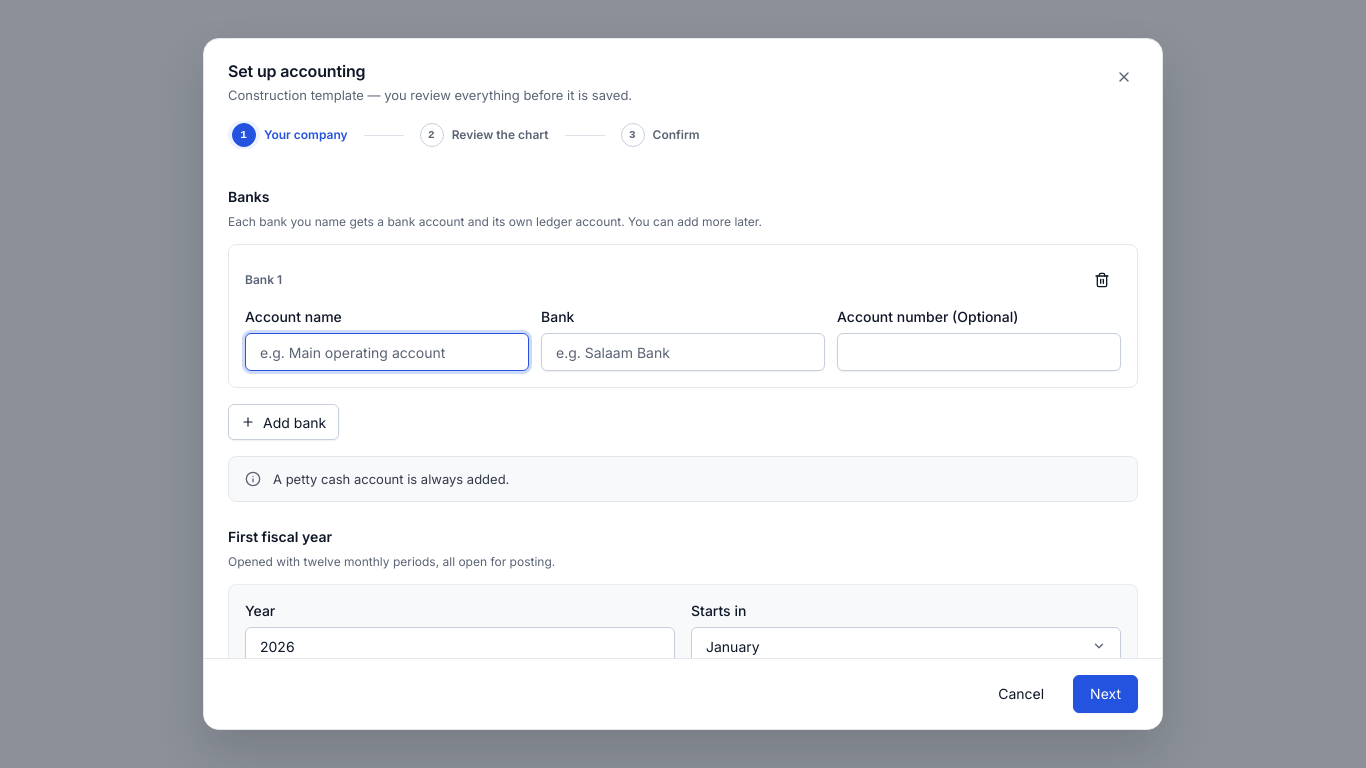
Test: AccountingSetupDialog — step 1 › shows the period range for a non-January start
Clear the field labelled "Year" at (460, 646), box [245, 627, 675, 665]
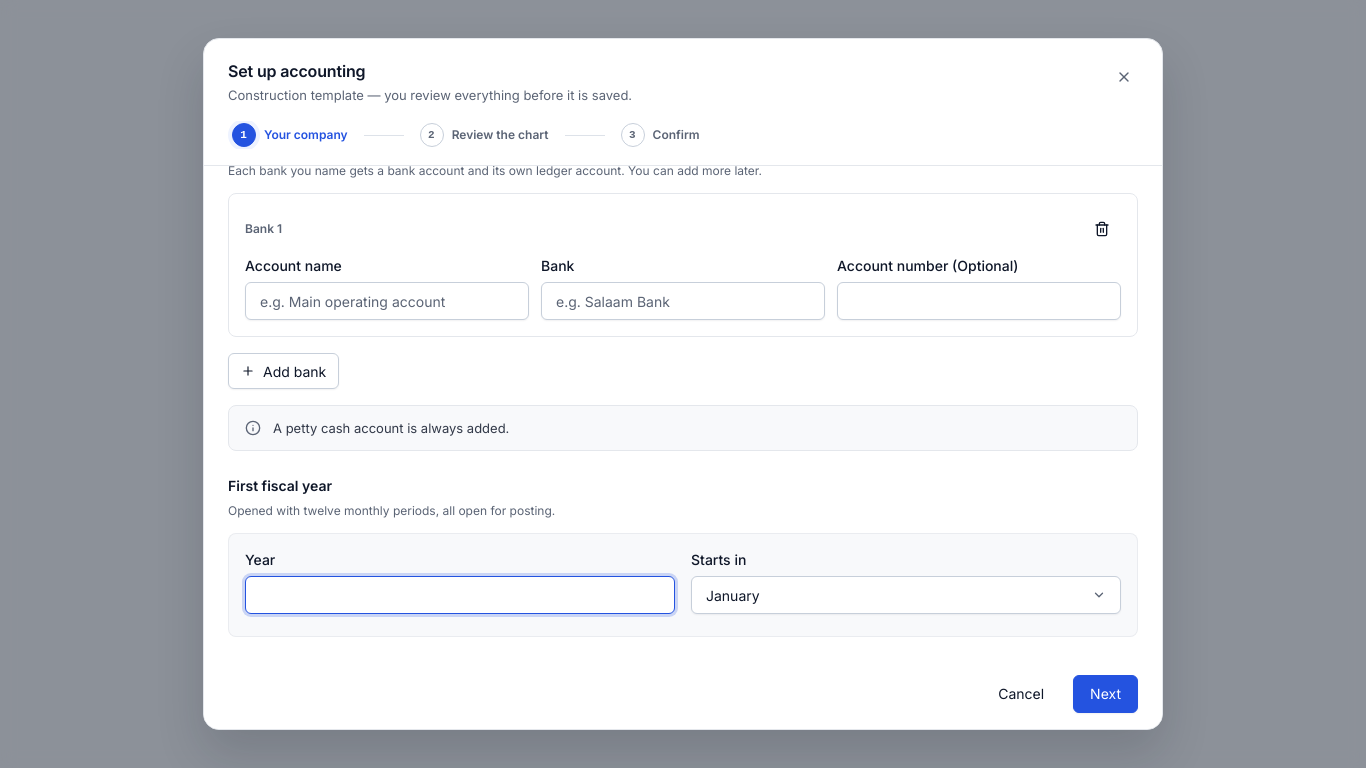
Type "2026" into the field labelled "Year" at (460, 595), box [245, 576, 675, 614]
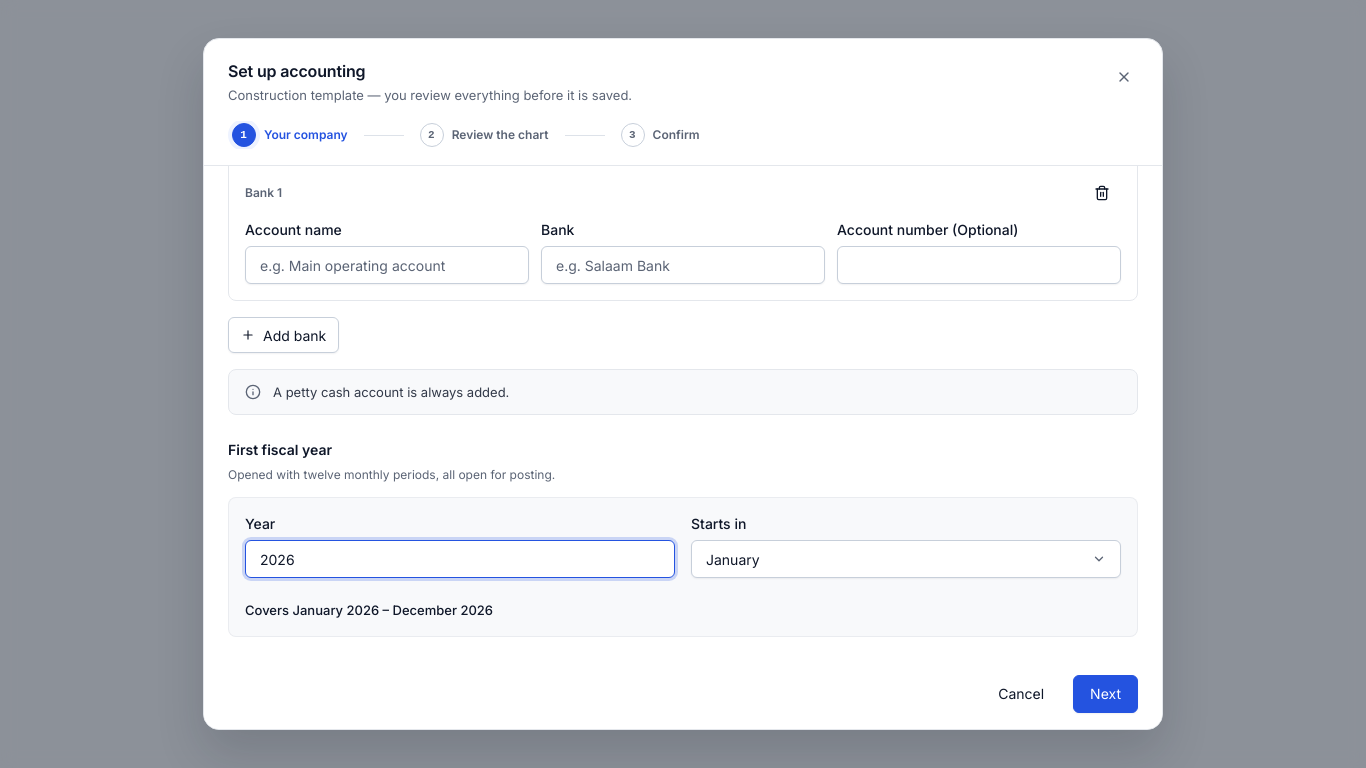
Click the dropdown named "Starts in" at (733, 559), box [691, 540, 1121, 578]
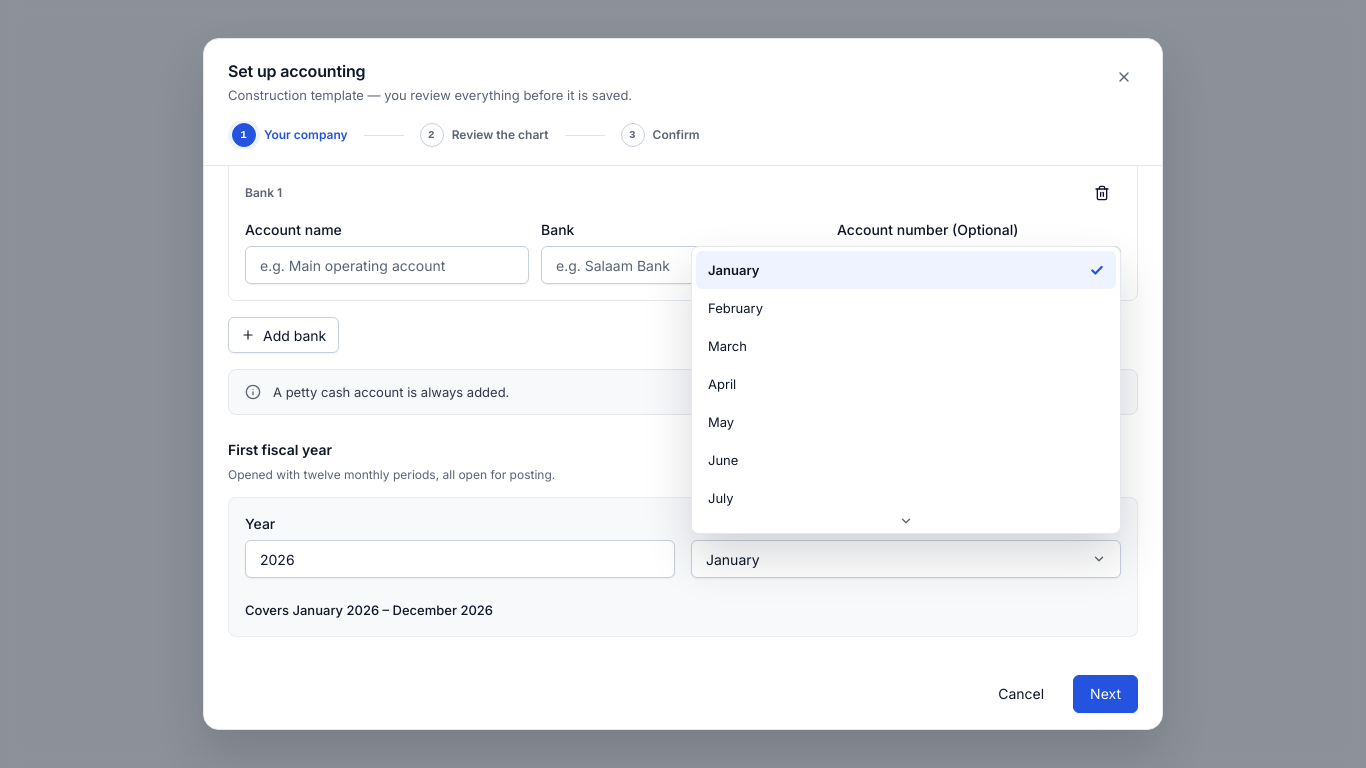
Click the option "July" at (721, 498), box [708, 490, 734, 506]
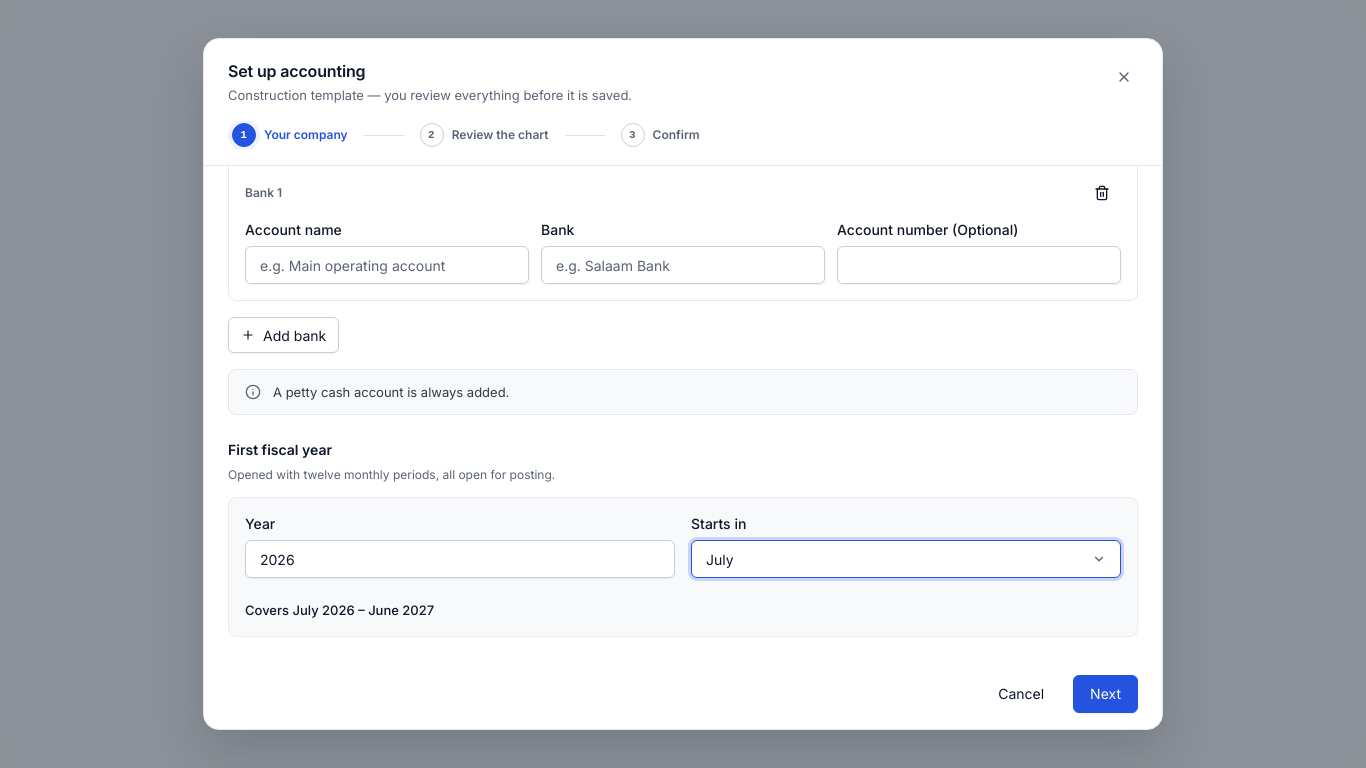
Now the text "Covers July 2026 – June 2027" is shown, box [245, 602, 434, 618]
